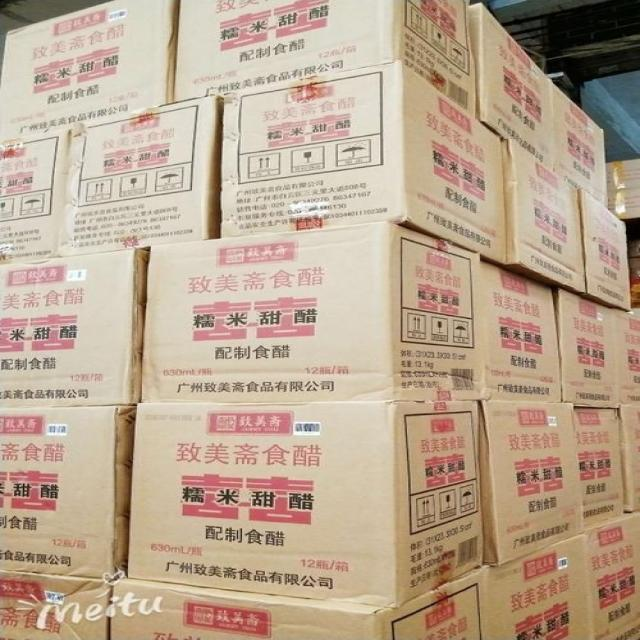box: (125, 399, 484, 609), (141, 220, 484, 402), (219, 59, 507, 266), (173, 0, 476, 118), (109, 564, 489, 640), (58, 93, 223, 257), (0, 0, 179, 143), (0, 246, 147, 408), (0, 405, 136, 580), (481, 400, 585, 568), (471, 2, 554, 172), (499, 137, 586, 294), (484, 533, 594, 640), (481, 261, 562, 402), (0, 126, 72, 263), (0, 568, 113, 640), (554, 288, 621, 409), (550, 79, 609, 210), (582, 513, 640, 639), (575, 190, 632, 312), (575, 407, 625, 526), (613, 309, 640, 405), (621, 404, 640, 514), (607, 159, 640, 220), (595, 617, 640, 639), (627, 223, 640, 269), (631, 269, 639, 307)
